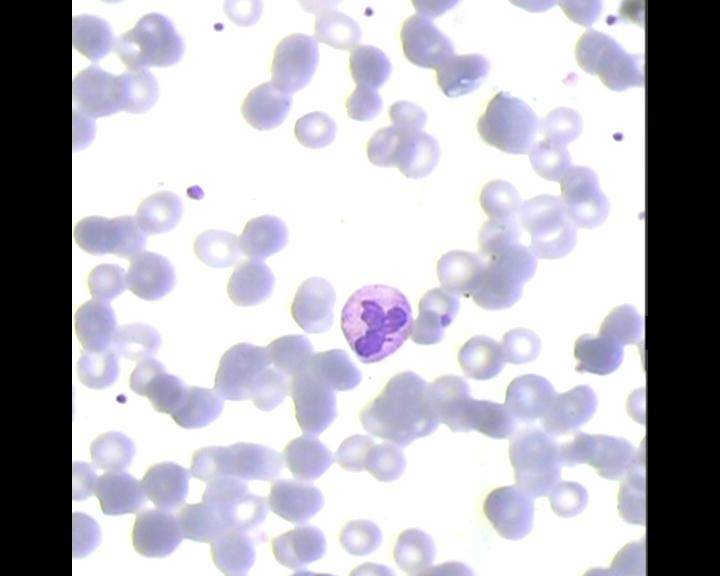neut: (337, 277, 418, 363)
